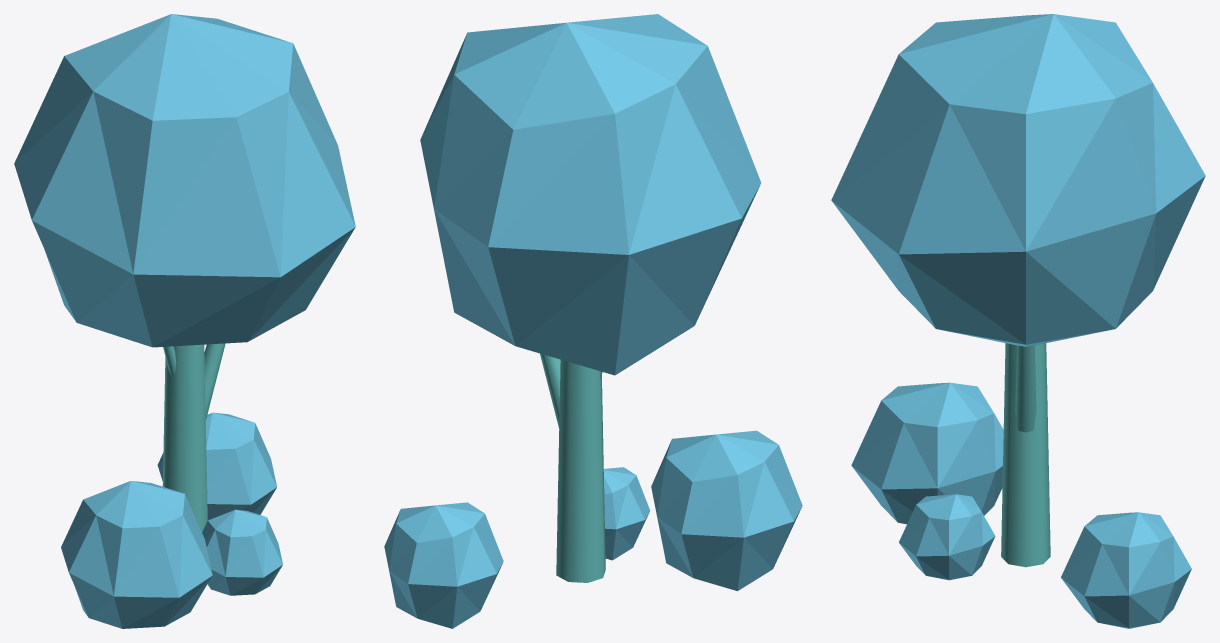
The model's file is BG_sptp_tree_01.fbx.
3 renders of one model, left to right at view 1: azimuth 30°, elevation 25°; view 2: azimuth 150°, elevation 25°; view 3: azimuth 270°, elevation 25°, orthographic. The views are drawn at different scales.
Visible parts, largest first — view 1: sptp_tree_01.001; view 2: sptp_tree_01.001; view 3: sptp_tree_01.001.
Boxes of the visible parts, x1,y1,x2,y2 form: sptp_tree_01.001: (14, 14, 355, 628); sptp_tree_01.001: (384, 14, 802, 628); sptp_tree_01.001: (831, 14, 1205, 628).
Bounding box in the file's own units: 3.56 × 6.07 × 3.63.
